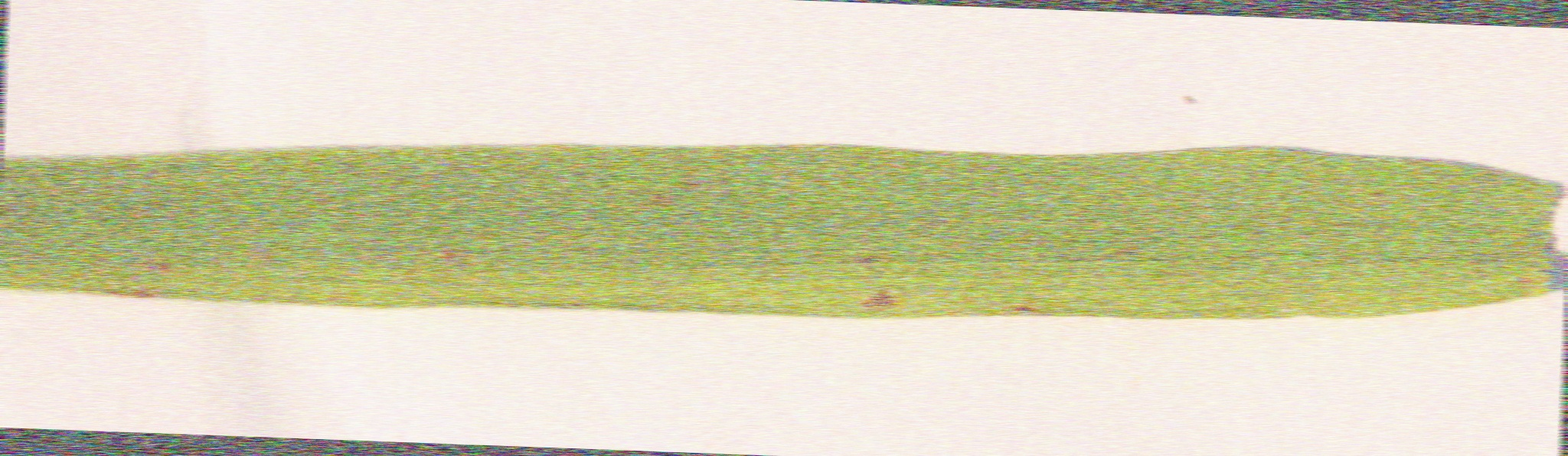Bacterial_Leaf_Blight: (829, 224, 933, 315), (643, 162, 717, 207), (359, 247, 475, 269), (997, 282, 1042, 327), (1106, 241, 1164, 265), (138, 247, 174, 280)
